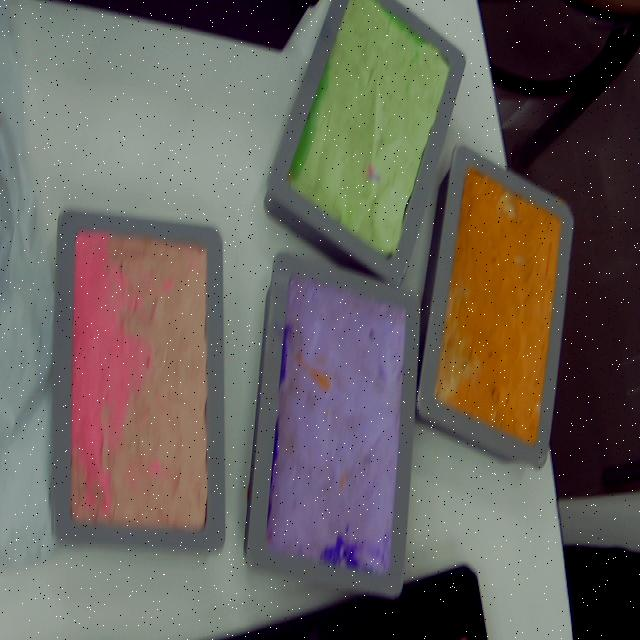block: (50, 207, 228, 554), (242, 251, 419, 598), (262, 0, 464, 291), (409, 146, 575, 476)
